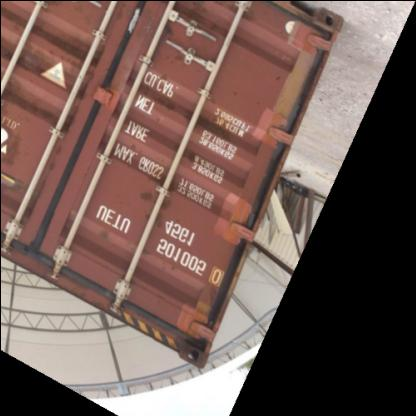Damage: (170, 104, 224, 139), (140, 23, 180, 66)
